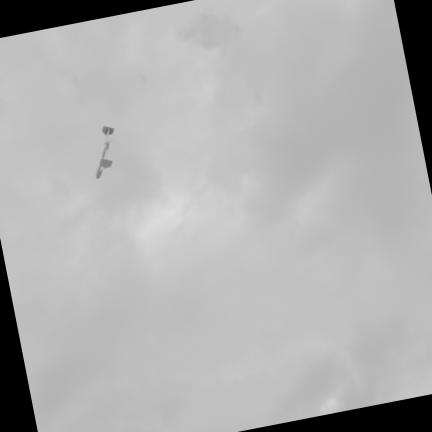Shahed: (97, 126, 114, 178)
